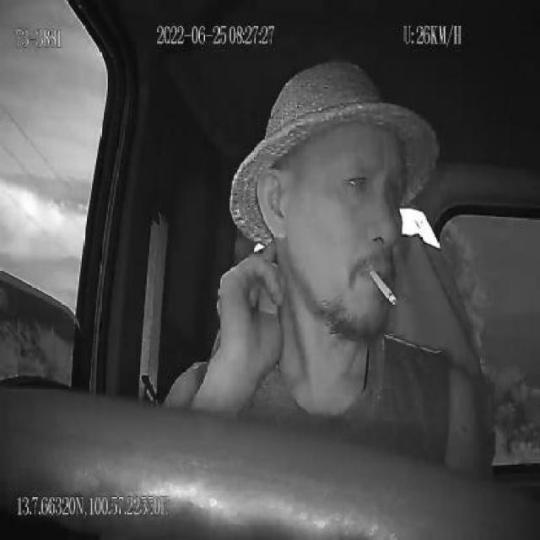smoking: (366, 263, 398, 308)
